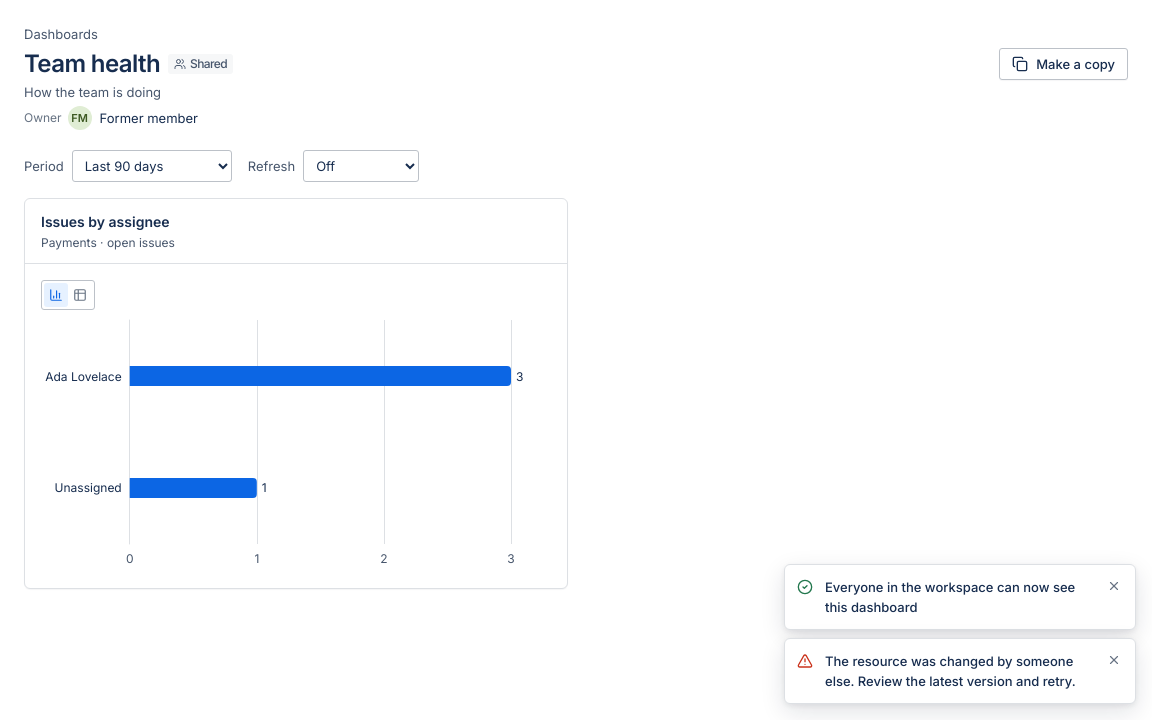
Test case: dashboards › copies a dashboard someone shared, and opens the copy
Click the button "Make a copy".
click(1064, 64)  # box [999, 48, 1128, 80]
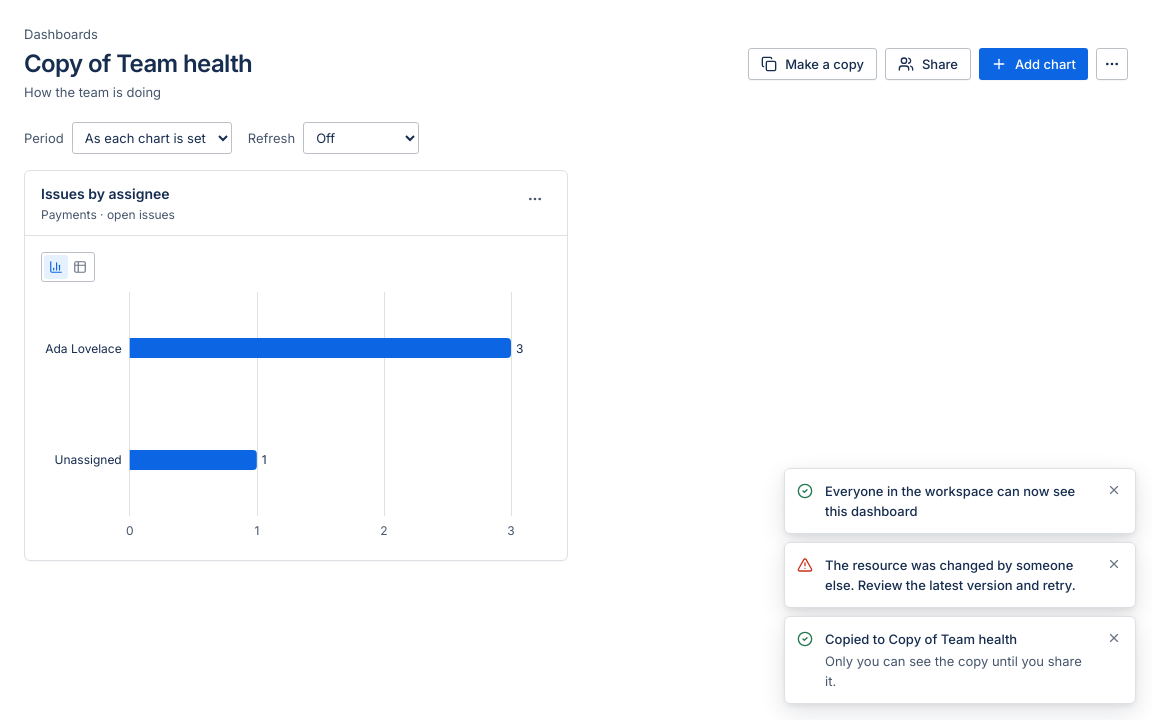
Now the heading "Copy of Team health" is shown, box [24, 48, 252, 80]
Now the dropdown labelled "Period" shows "As each chart is set", box [72, 122, 232, 154]
